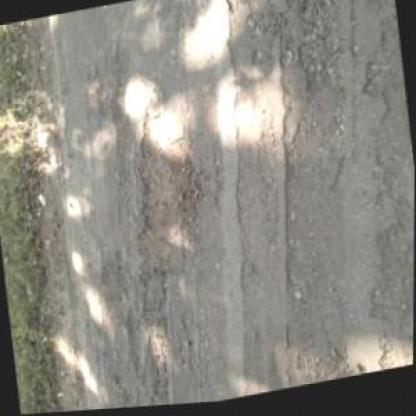pothole: (122, 103, 212, 294)
